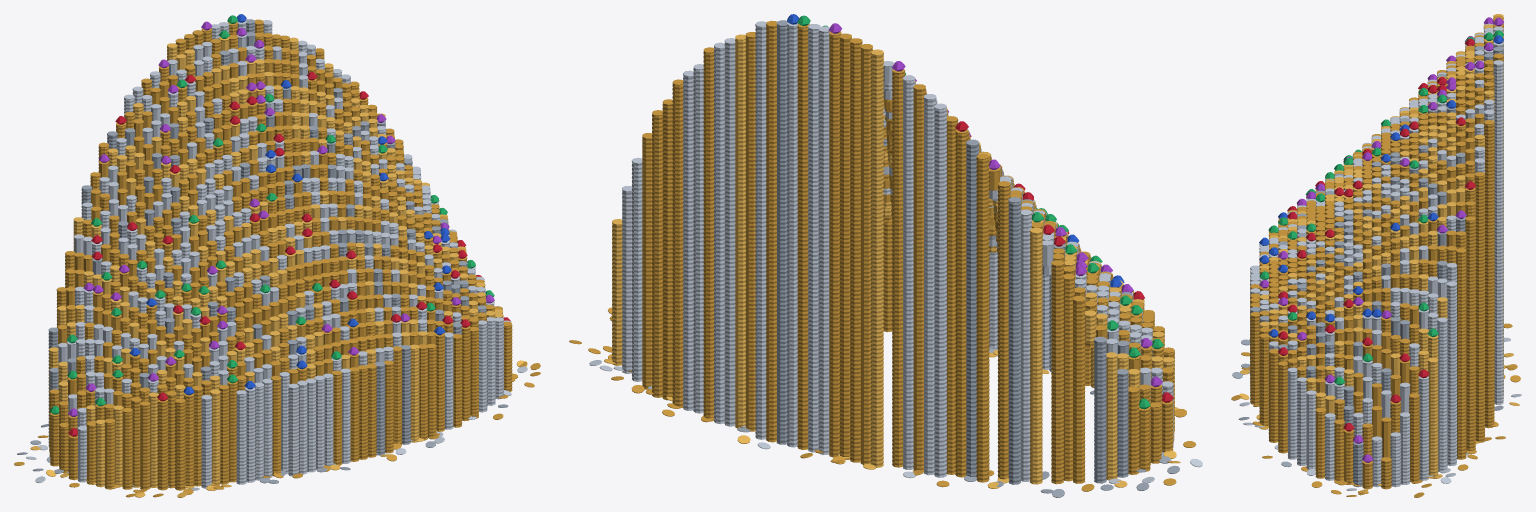
File: PileBackBank_Large.fbx
The picture shows the model from 3 angles, left to right: view 1: azimuth 30°, elevation 25°; view 2: azimuth 150°, elevation 25°; view 3: azimuth 270°, elevation 25°; orthographic projection. The views are drawn at different scales.
Parts seen in each view (by area): view 1: PileBackBank_Large; view 2: PileBackBank_Large; view 3: PileBackBank_Large.
Part boxes in pixels (<box>): PileBackBank_Large: <box>14,14,540,497</box>; PileBackBank_Large: <box>569,14,1202,497</box>; PileBackBank_Large: <box>1231,14,1521,497</box>.
Bounding box in the file's own units: 368 × 251 × 186.
